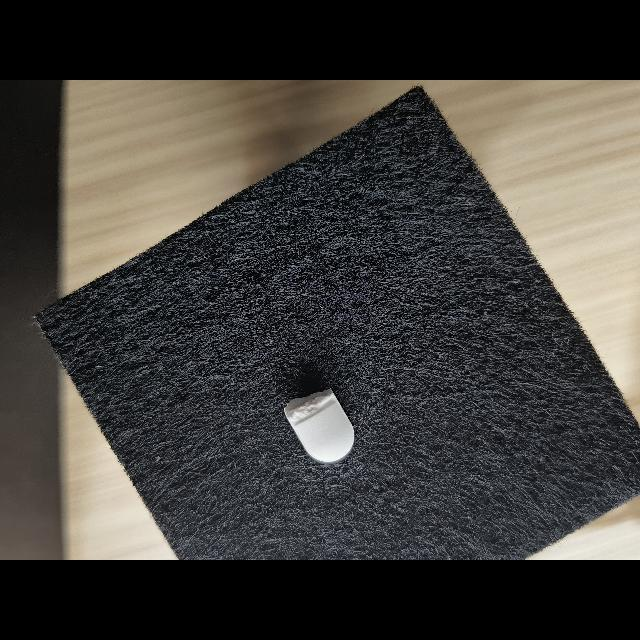Chipped Pill: (284, 388, 354, 462)
